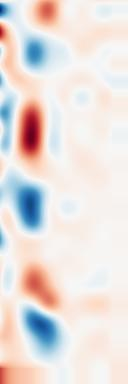filament: (18, 258, 65, 318), (16, 96, 50, 163)
